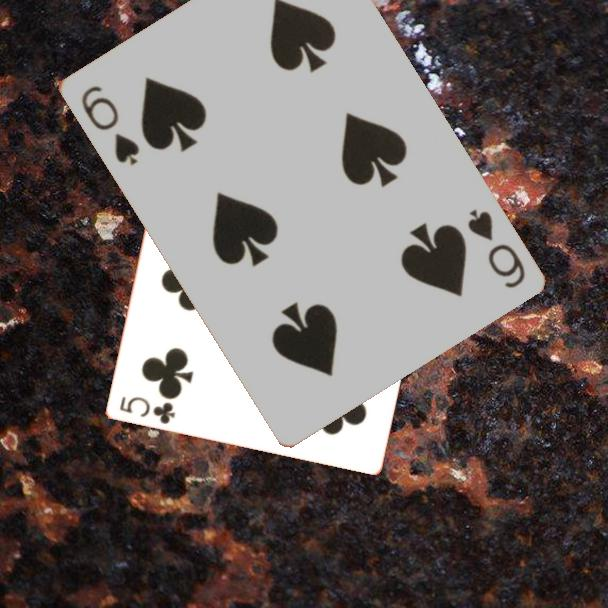c05: (116, 393, 178, 427)
s06: (76, 81, 142, 169), (463, 205, 528, 292)
